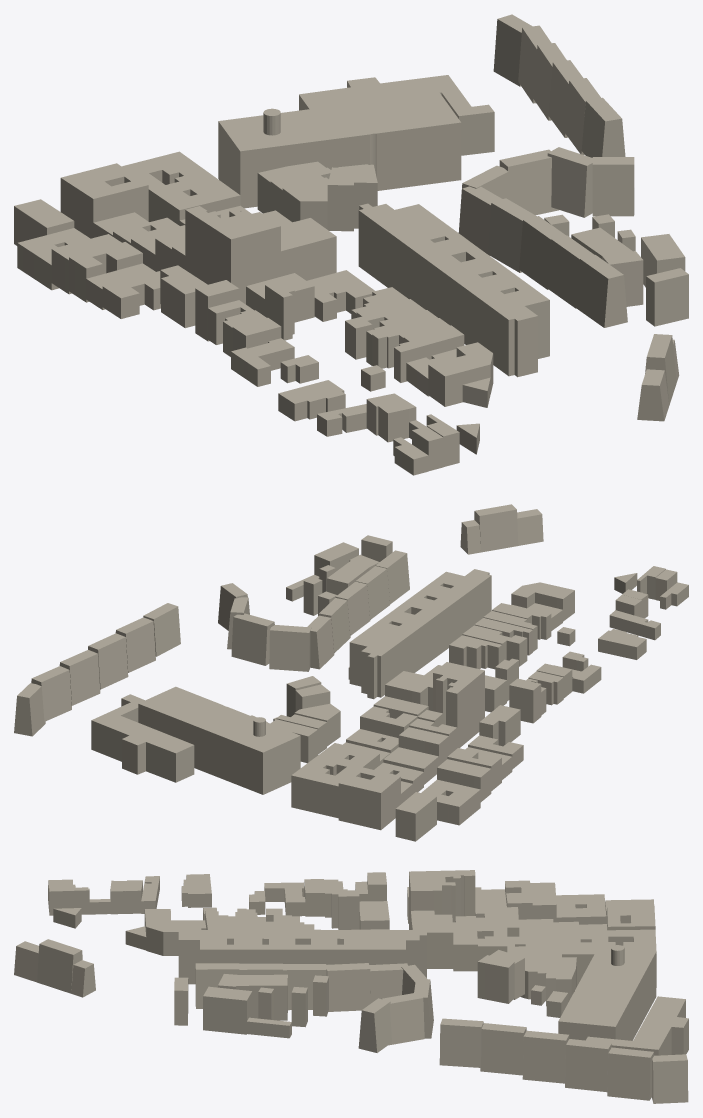
The model's file is bormla_62_29_mid.glb.
The picture shows the model from 3 angles, top to bottom: view 1: azimuth 30°, elevation 25°; view 2: azimuth 150°, elevation 25°; view 3: azimuth 270°, elevation 25°; orthographic projection. The views are drawn at different scales.
Visible parts, largest first — view 1: geometry_0; view 2: geometry_0; view 3: geometry_0.
Boxes of the visible parts, left/top/right/bottom form: geometry_0: left=14, top=14, right=688, bottom=475; geometry_0: left=14, top=504, right=688, bottom=841; geometry_0: left=14, top=870, right=688, bottom=1103.
Bounding box in the file's own units: 140 × 26.46 × 188.
